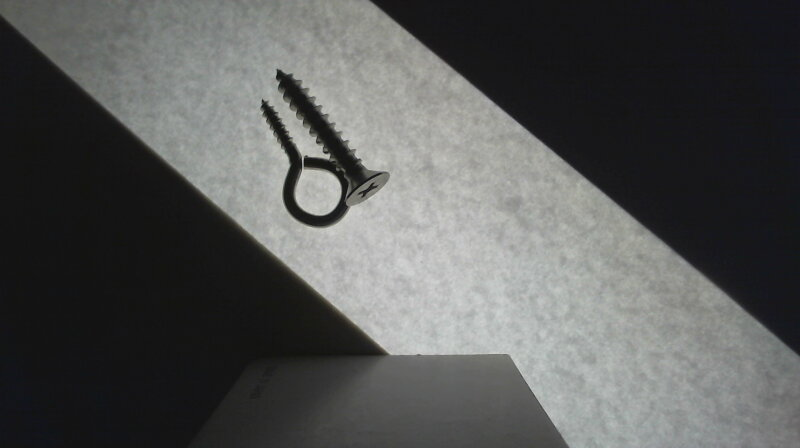O001: (257, 96, 354, 228)
S001: (272, 66, 391, 209)
